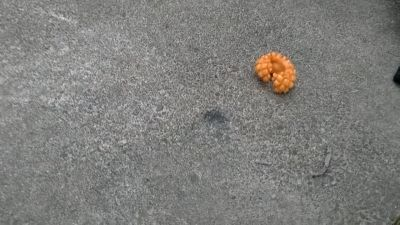eggs: (252, 50, 300, 96)
